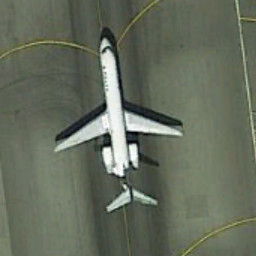Airplane: (42, 25, 189, 231)
